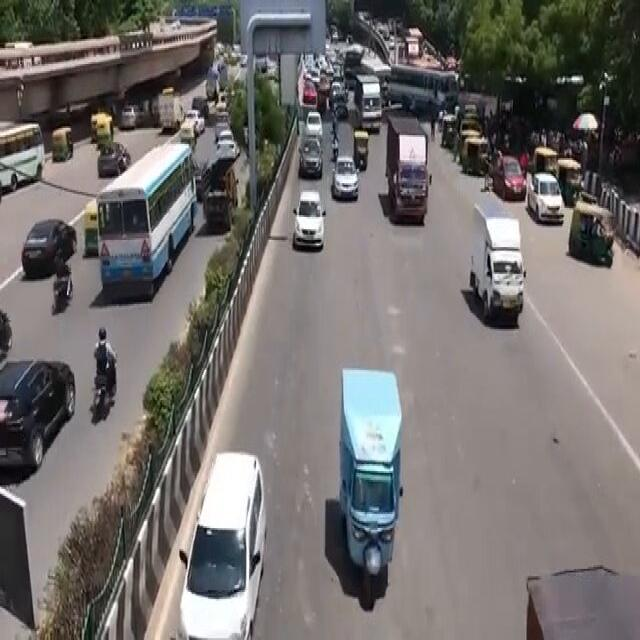three_wheeler: (564, 190, 619, 276)
